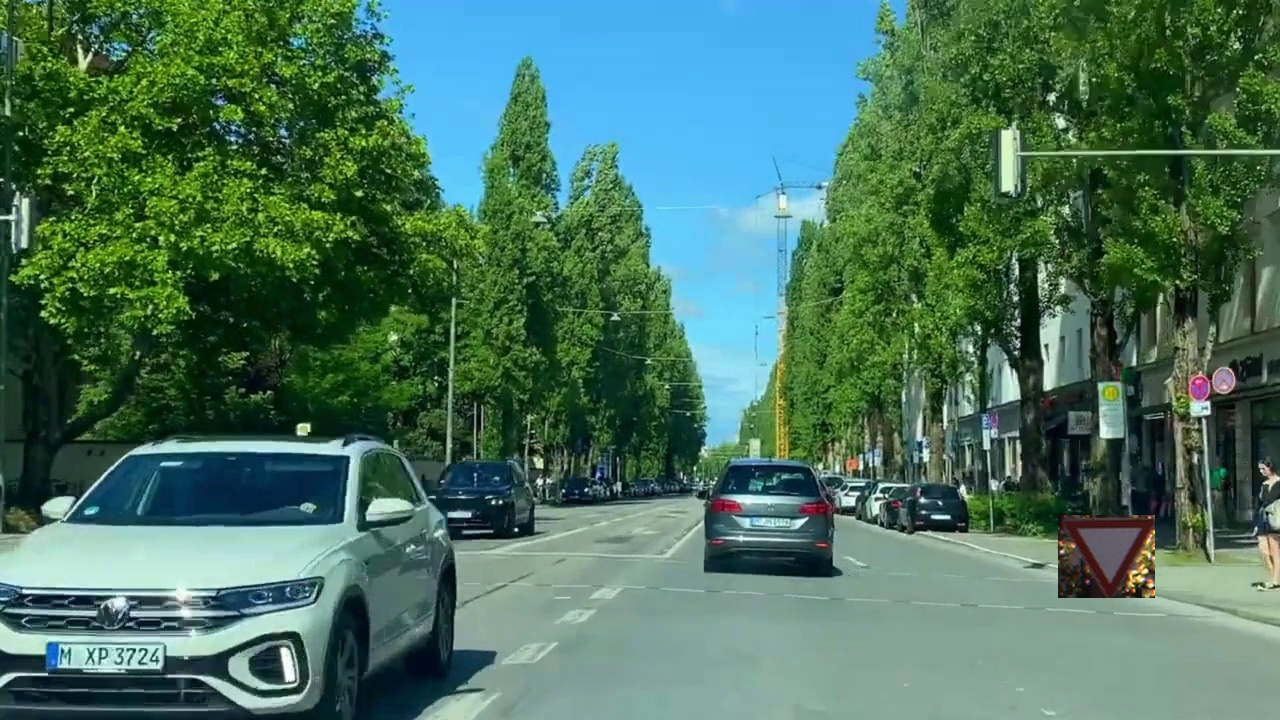Yield: (1058, 515, 1155, 598)
